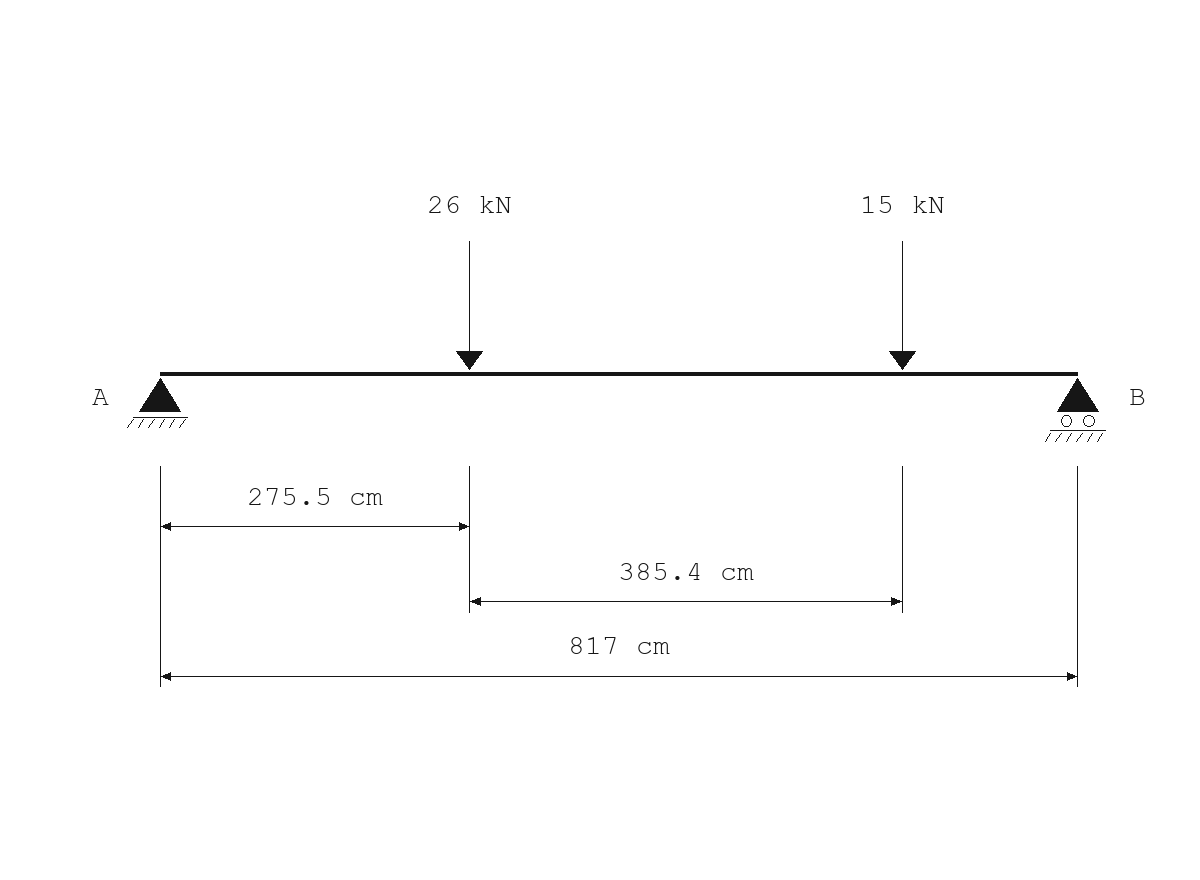pin_support: (127, 378, 188, 428)
point_load: (456, 241, 483, 370), (889, 241, 916, 370)
roller_support: (1045, 378, 1106, 442)
